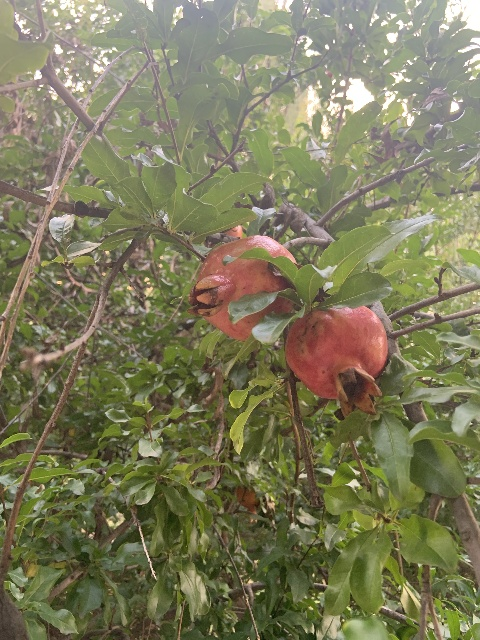ripe: (187, 235, 297, 342), (285, 305, 388, 417)
